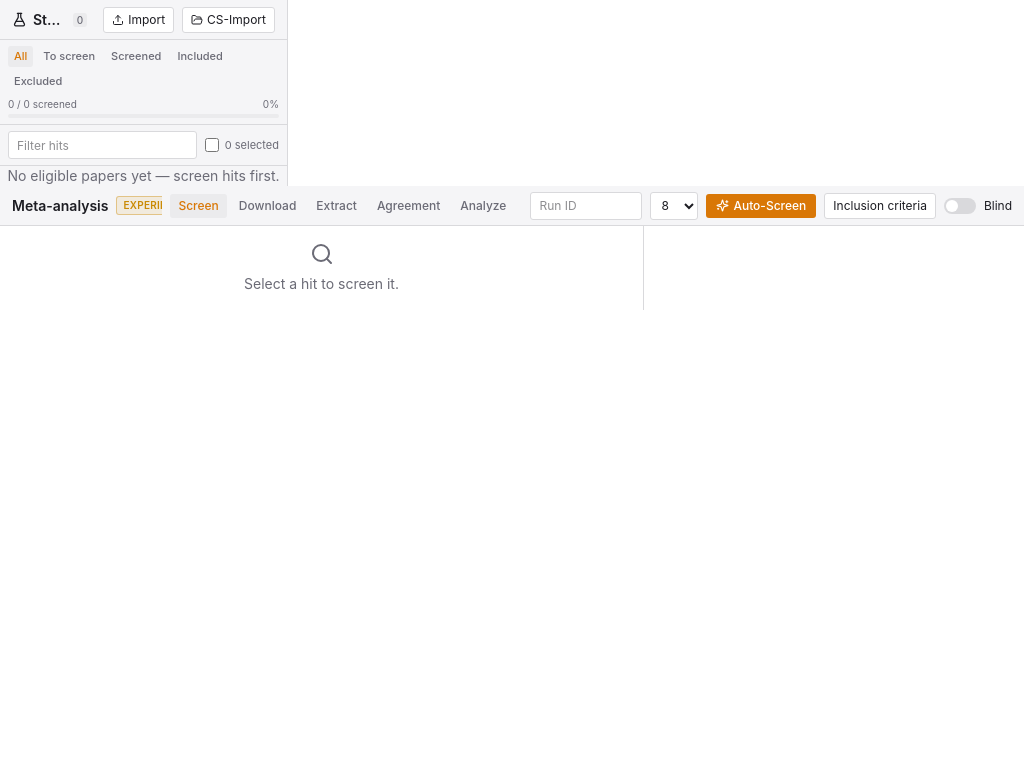
MetaView analyze tab › renders the categorical summary with n / n_studies
Click the button "Analyze": (483, 206) [452,194,514,218]
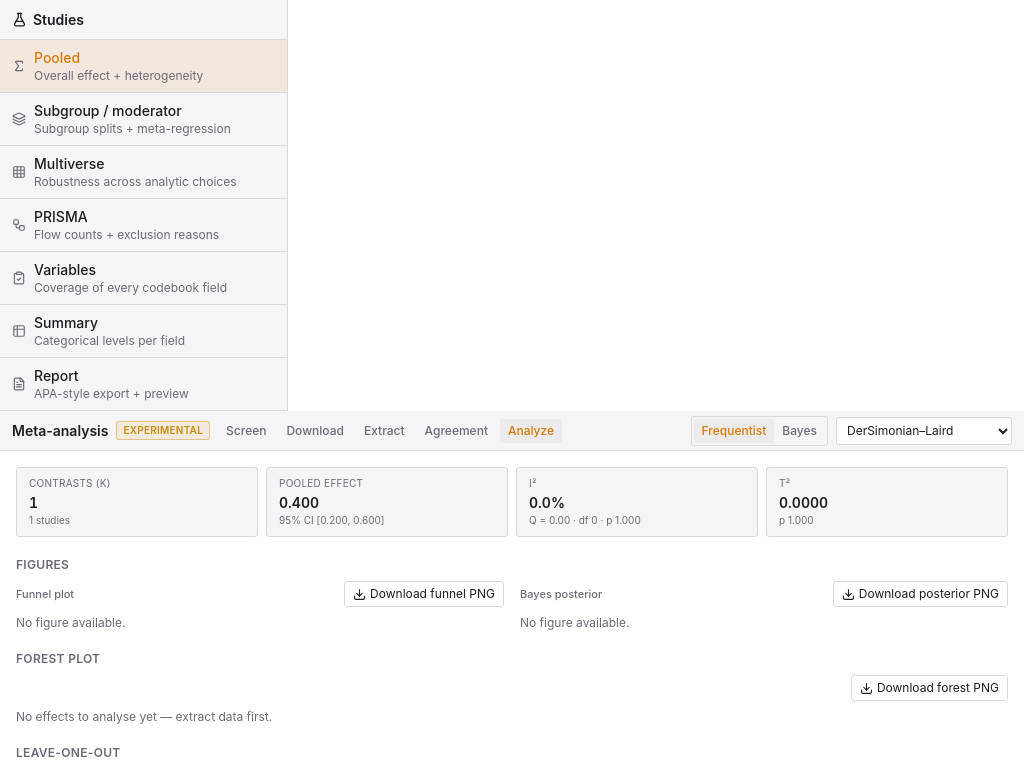
Click the button "Summary Categorical levels per field": (144, 332) [0,305,287,358]
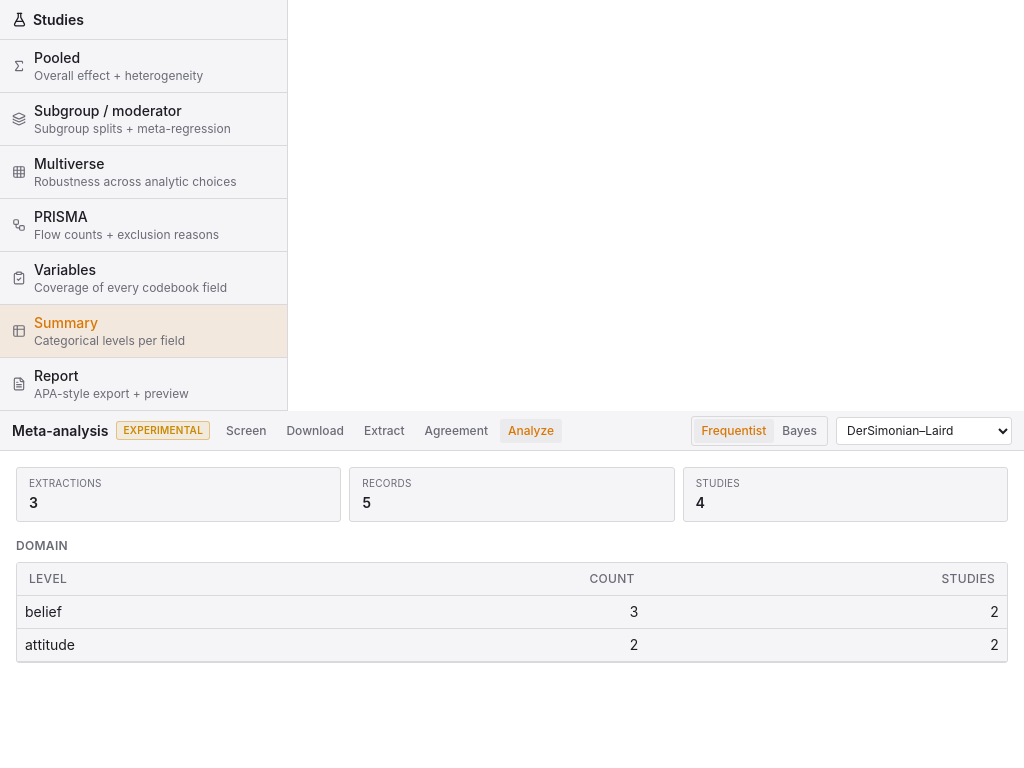
Result: the text "Domain" is shown at [16,538,68,553]
Result: the text "belief" is shown at [17,596,324,628]
Result: the text "3" is shown at [29,494,38,511]
